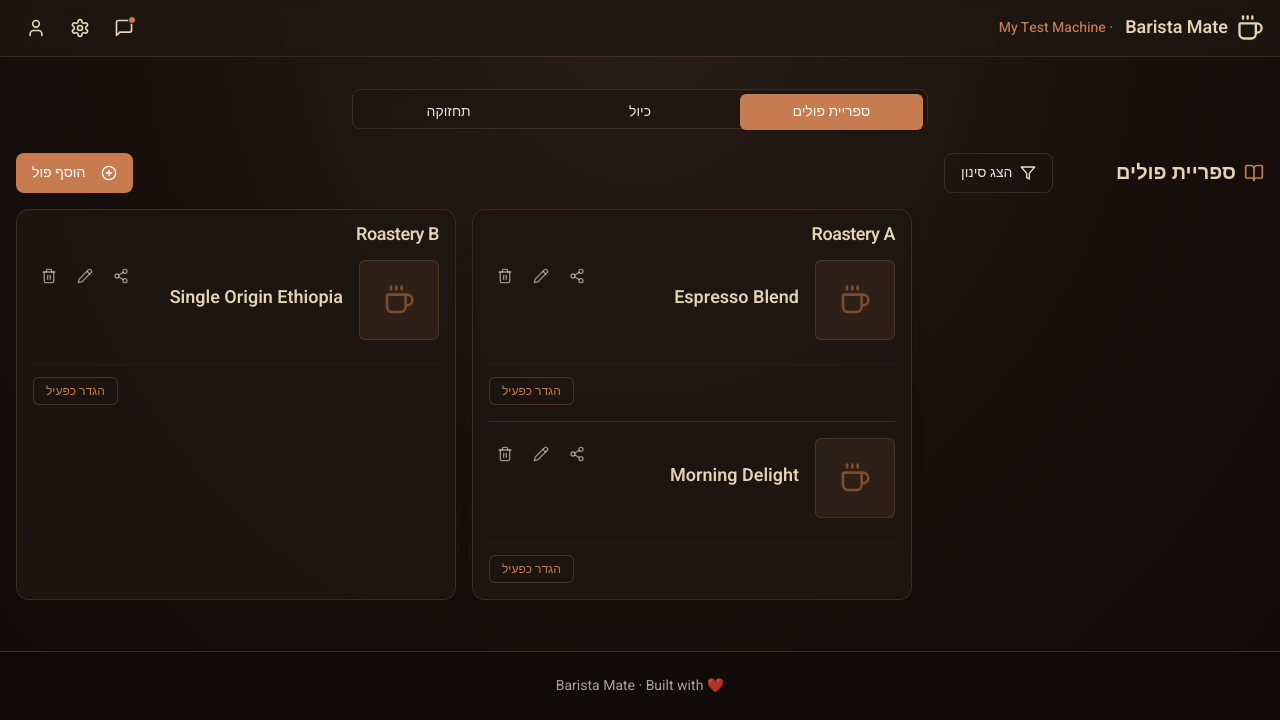
Test: Dashboard › settings dialog opens and displays data from Firestore
This screenshot has width=1280, height=720.
What coordinates should you click on to do the following:
click the button named "הגדרות"
I would click on:
 (80, 28)
Its box is [60,8,100,48].
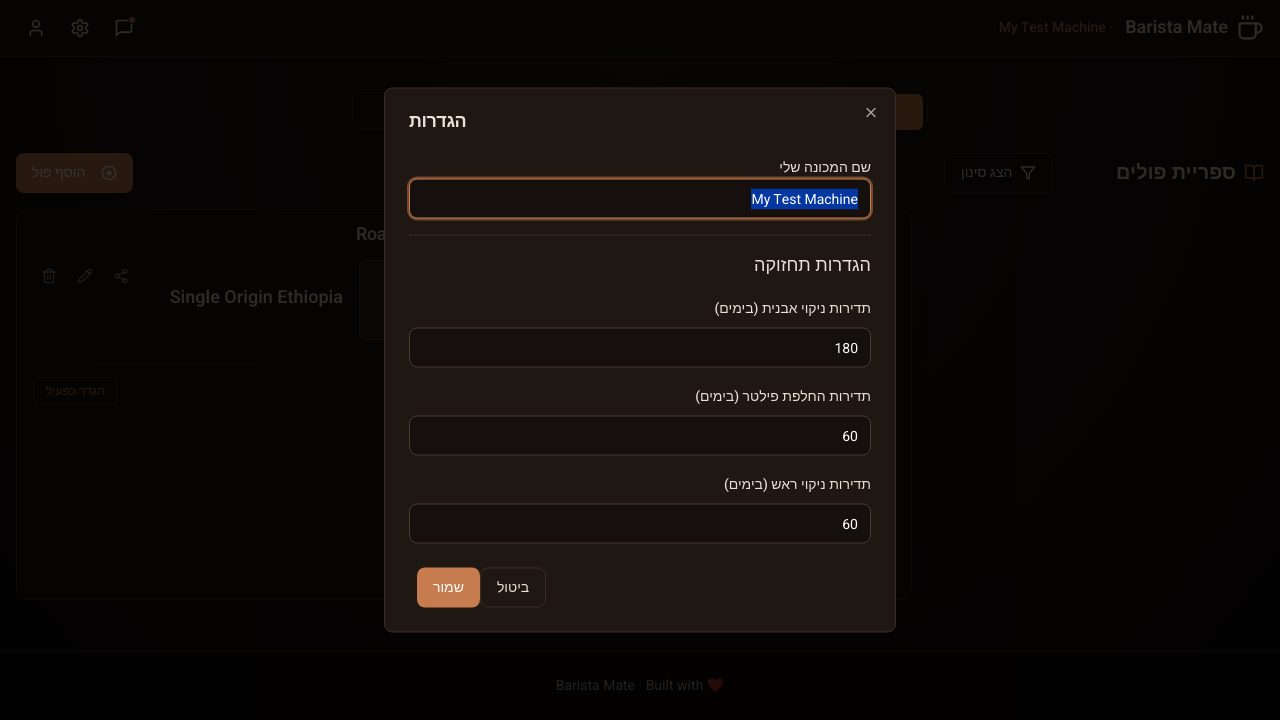
Now the field labelled "שם המכונה שלי" holds "My Test Machine", box [409,178,871,218]
